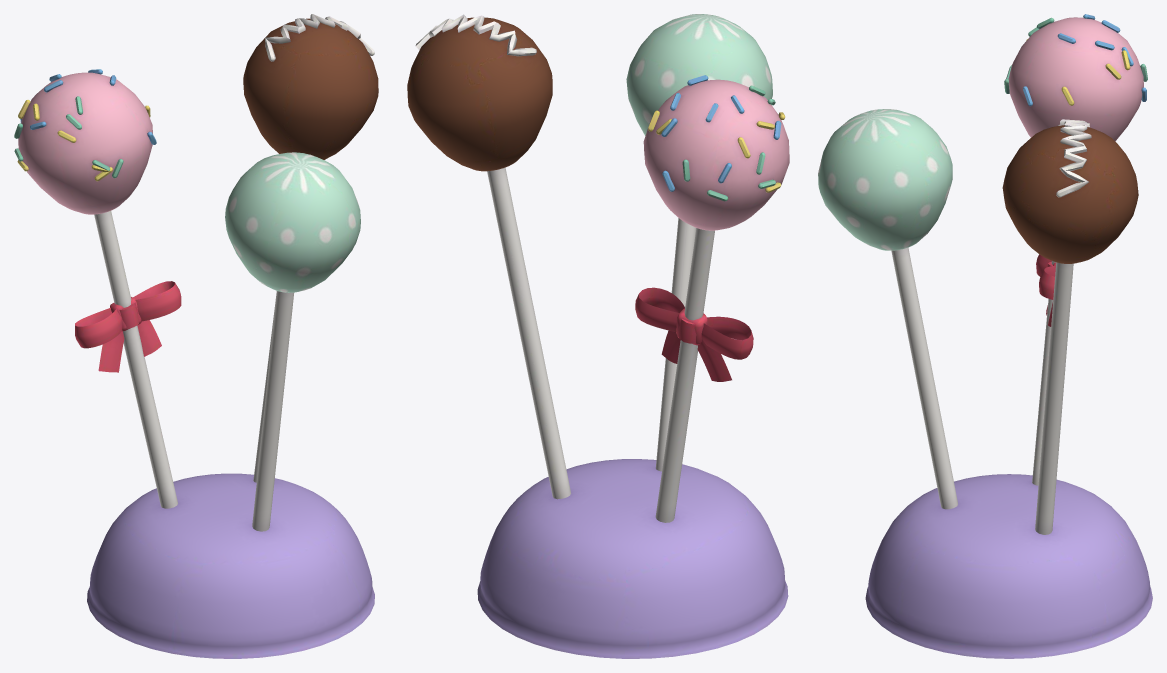
File: cake_pop.glb
3 views of the same model, side by side, from view 1: azimuth 30°, elevation 25°; view 2: azimuth 150°, elevation 25°; view 3: azimuth 270°, elevation 25° (orthographic). The views are drawn at different scales.
Parts seen in each view (by area): view 1: cake-pop_body; view 2: cake-pop_body; view 3: cake-pop_body.
Boxes of the visible parts, left/top/right/bottom form: cake-pop_body: left=14, top=14, right=378, bottom=658; cake-pop_body: left=407, top=14, right=789, bottom=658; cake-pop_body: left=818, top=14, right=1152, bottom=658.
Size of the model in its own units: 0.1079 by 0.1599 by 0.0919.
Materials: 1 (1 with a texture image).
